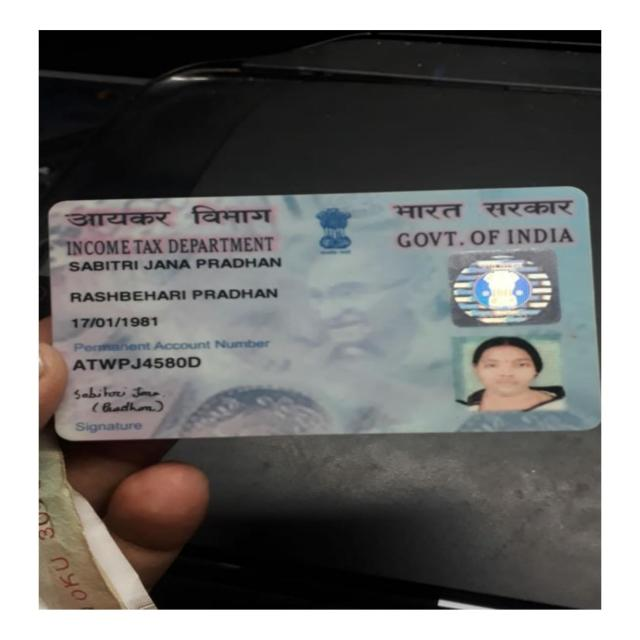pan_card: (46, 182, 595, 438)
